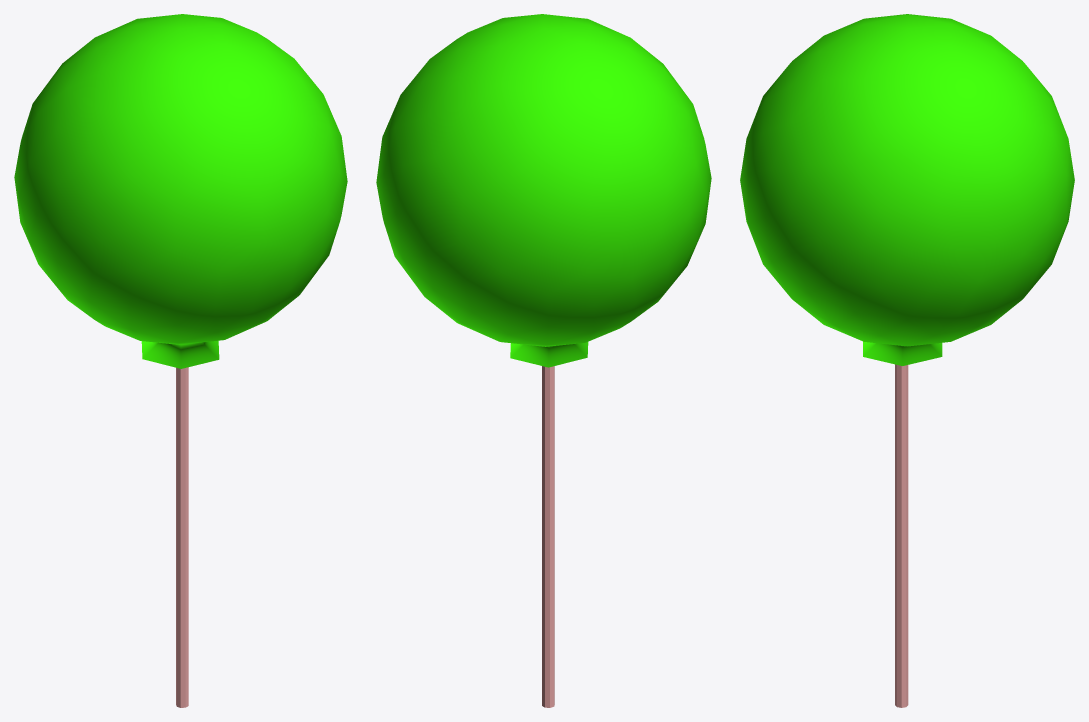
File: sharik_green 1.fbx
The picture shows the model from 3 angles, left to right: view 1: azimuth 30°, elevation 25°; view 2: azimuth 150°, elevation 25°; view 3: azimuth 270°, elevation 25°; orthographic projection.
Parts seen in each view (by area): view 1: sharik_green, Cylinder, Cone; view 2: sharik_green, Cylinder, Cone; view 3: sharik_green, Cylinder, Cone.
Boxes of the visible parts, left/top/right/bottom form: sharik_green: left=14, top=14, right=347, bottom=344; Cylinder: left=176, top=367, right=188, bottom=707; Cone: left=141, top=340, right=219, bottom=368; sharik_green: left=376, top=14, right=711, bottom=346; Cylinder: left=542, top=366, right=554, bottom=707; Cone: left=510, top=342, right=588, bottom=367; sharik_green: left=740, top=14, right=1074, bottom=346; Cylinder: left=895, top=364, right=908, bottom=707; Cone: left=863, top=341, right=942, bottom=365.
Size of the model in its own units: 100 by 223 by 100.
